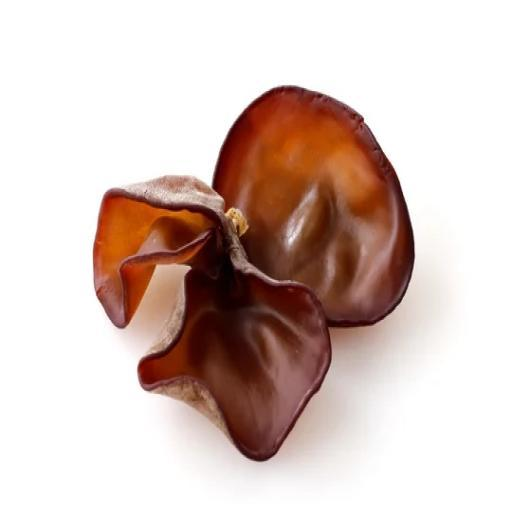mushroom: (77, 76, 426, 468)
